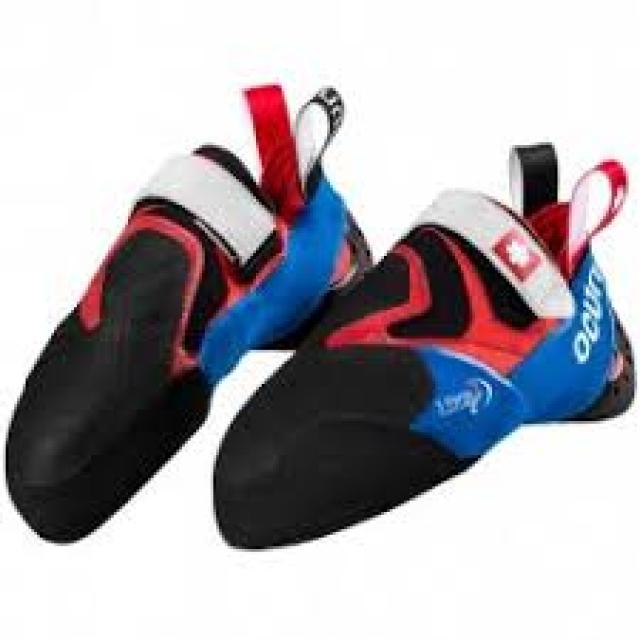climbing-shoes: (212, 142, 638, 554), (5, 75, 366, 542)
